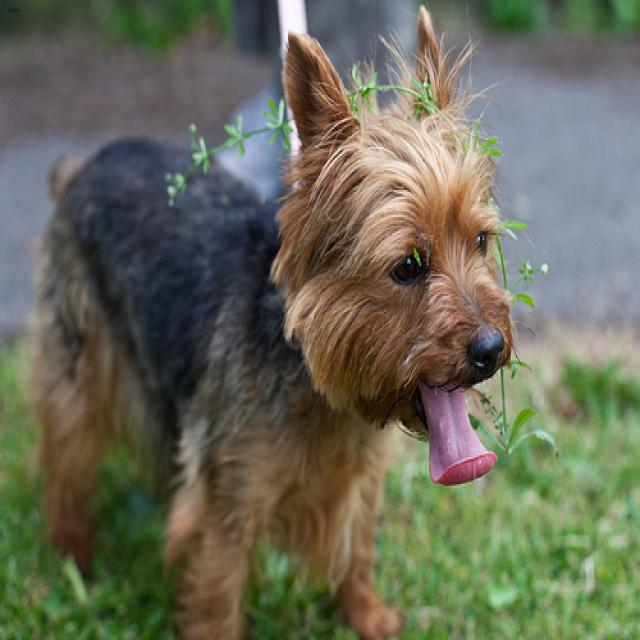dog-yorkshire_terrier: (17, 2, 527, 636)
